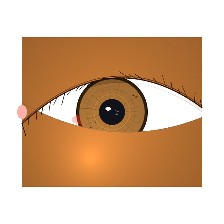hemorrhage_spot: (67, 100, 137, 157)
